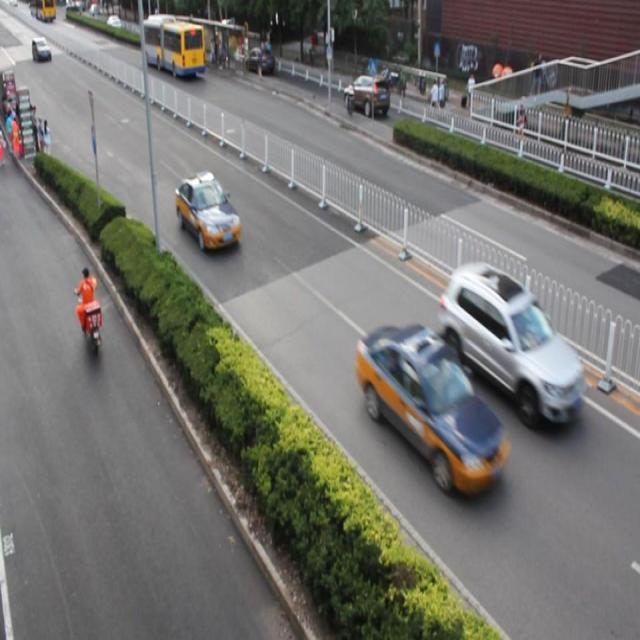car: (357, 323, 511, 495), (436, 263, 585, 426), (174, 172, 240, 252), (342, 74, 388, 120), (242, 41, 273, 76)
van: (141, 12, 204, 78)
